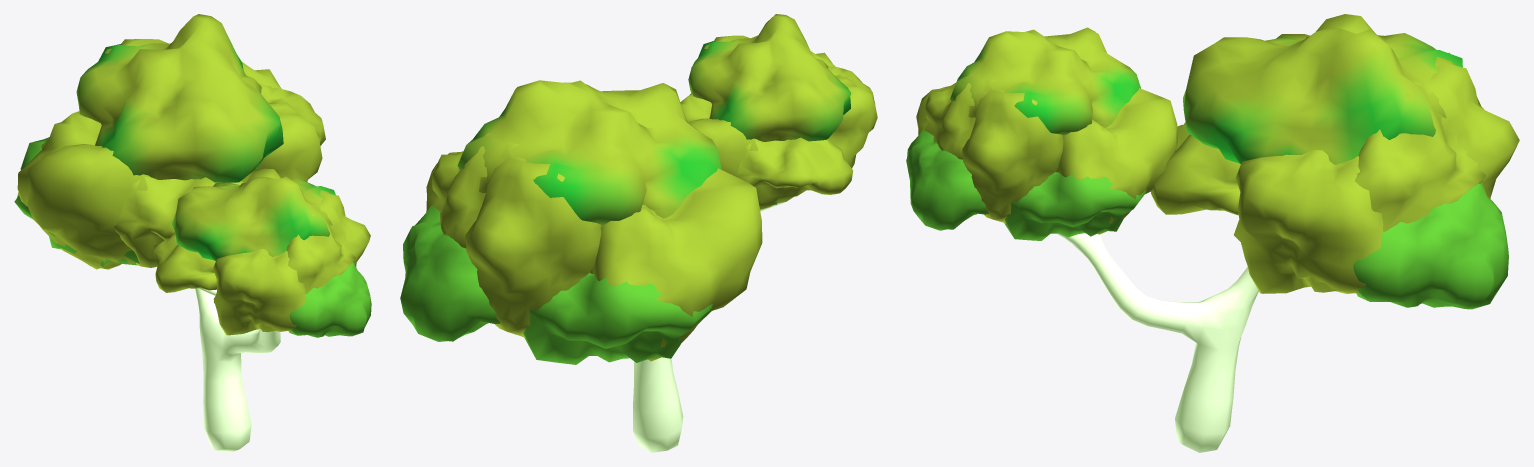
File: Tree.fbx
3 views of the same model, side by side, from view 1: azimuth 30°, elevation 25°; view 2: azimuth 150°, elevation 25°; view 3: azimuth 270°, elevation 25° (orthographic). The views are drawn at different scales.
Parts seen in each view (by area): view 1: Foliage__1_, Foliage, Tree; view 2: Foliage__1_, Foliage, Tree; view 3: Foliage__1_, Foliage, Tree.
Boxes of the visible parts, <box> form: Foliage__1_: <box>14,14,325,269</box>; Foliage: <box>154,168,371,337</box>; Tree: <box>195,288,280,452</box>; Foliage__1_: <box>400,80,762,364</box>; Foliage: <box>680,14,877,209</box>; Tree: <box>633,202,784,452</box>; Foliage__1_: <box>1151,14,1519,309</box>; Foliage: <box>906,27,1177,240</box>; Tree: <box>1056,233,1258,452</box>.
Size of the model in its own units: 260 by 325 by 409.
